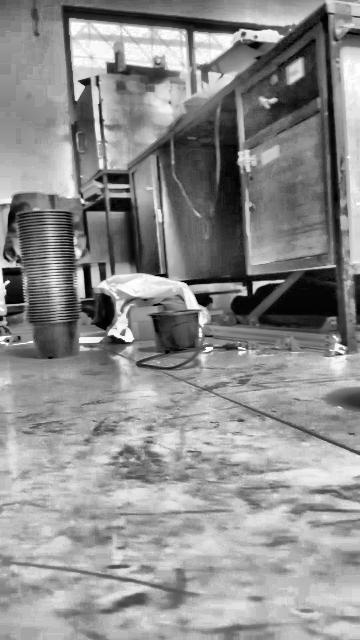pot: (29, 311, 80, 358), (149, 309, 202, 352)
